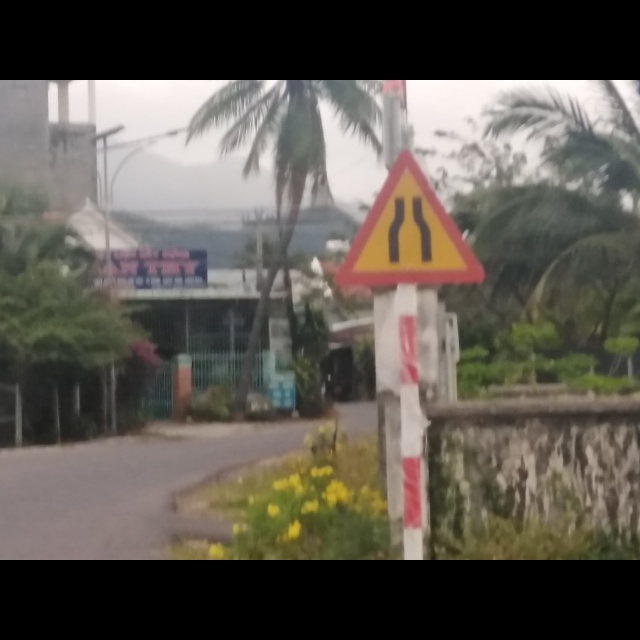Đường bị hẹp cả hai bên: (332, 151, 484, 287)
